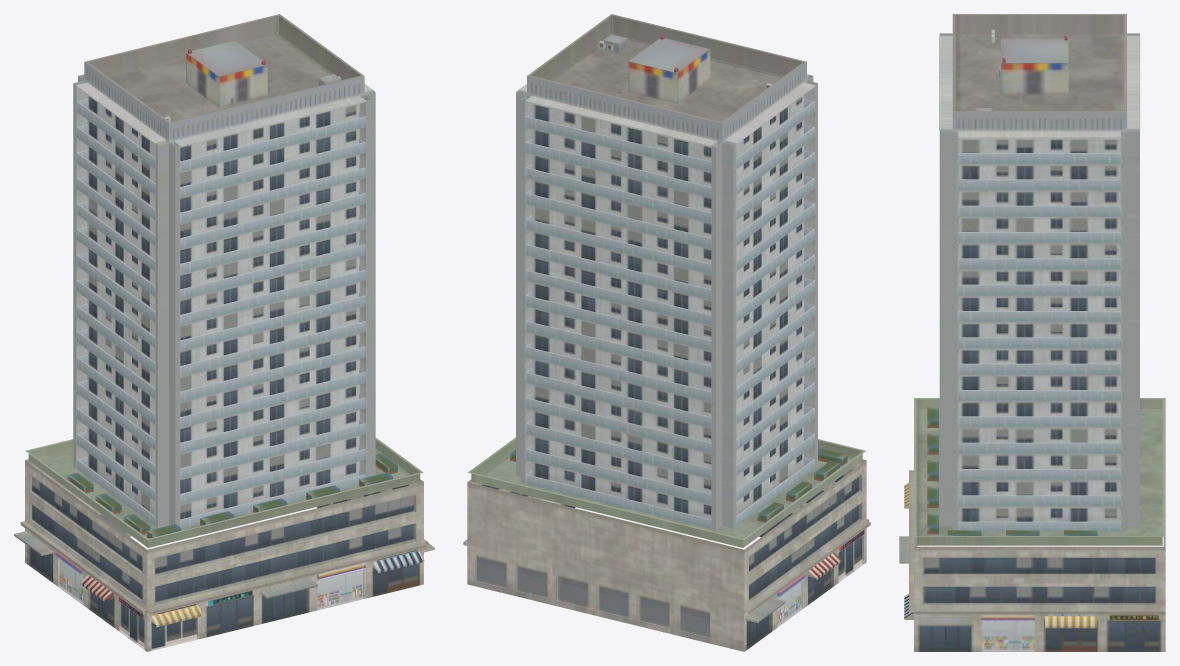
File: tokyo_apartment_e.glb
The picture shows the model from 3 angles, left to right: view 1: azimuth 30°, elevation 25°; view 2: azimuth 150°, elevation 25°; view 3: azimuth 270°, elevation 25°; orthographic projection. The views are drawn at different scales.
Parts seen in each view (by area): view 1: tokyo_apartment_e; view 2: tokyo_apartment_e; view 3: tokyo_apartment_e.
Part boxes in pixels (bbox=[...]): tokyo_apartment_e: bbox=[14, 14, 434, 651]; tokyo_apartment_e: bbox=[463, 14, 870, 651]; tokyo_apartment_e: bbox=[899, 14, 1165, 651].
Size of the model in its own units: 37 by 60.95 by 27.5.
1 material, 1 textured.
